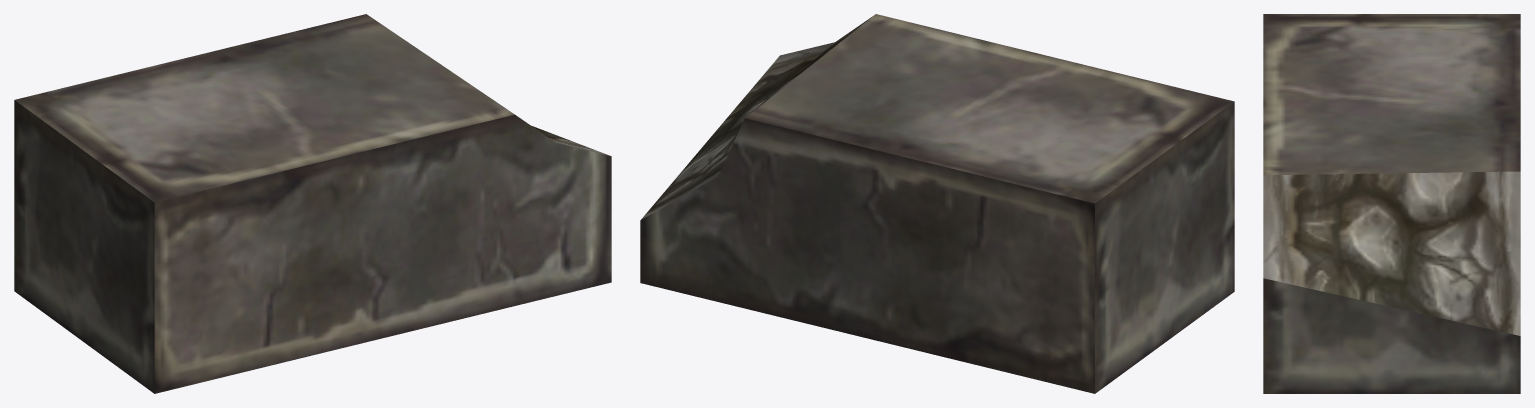
Rendered from Z_zhuan002.fbx.
3 views of the same model, side by side, from view 1: azimuth 30°, elevation 25°; view 2: azimuth 150°, elevation 25°; view 3: azimuth 270°, elevation 25° (orthographic). The views are drawn at different scales.
Parts seen in each view (by area): view 1: Z_zhuan002; view 2: Z_zhuan002; view 3: Z_zhuan002.
Boxes of the visible parts, left/top/right/bottom form: Z_zhuan002: left=14, top=14, right=611, bottom=393; Z_zhuan002: left=640, top=14, right=1234, bottom=393; Z_zhuan002: left=1263, top=14, right=1520, bottom=393.
Size of the model in its own units: 138 by 55.34 by 73.47.
